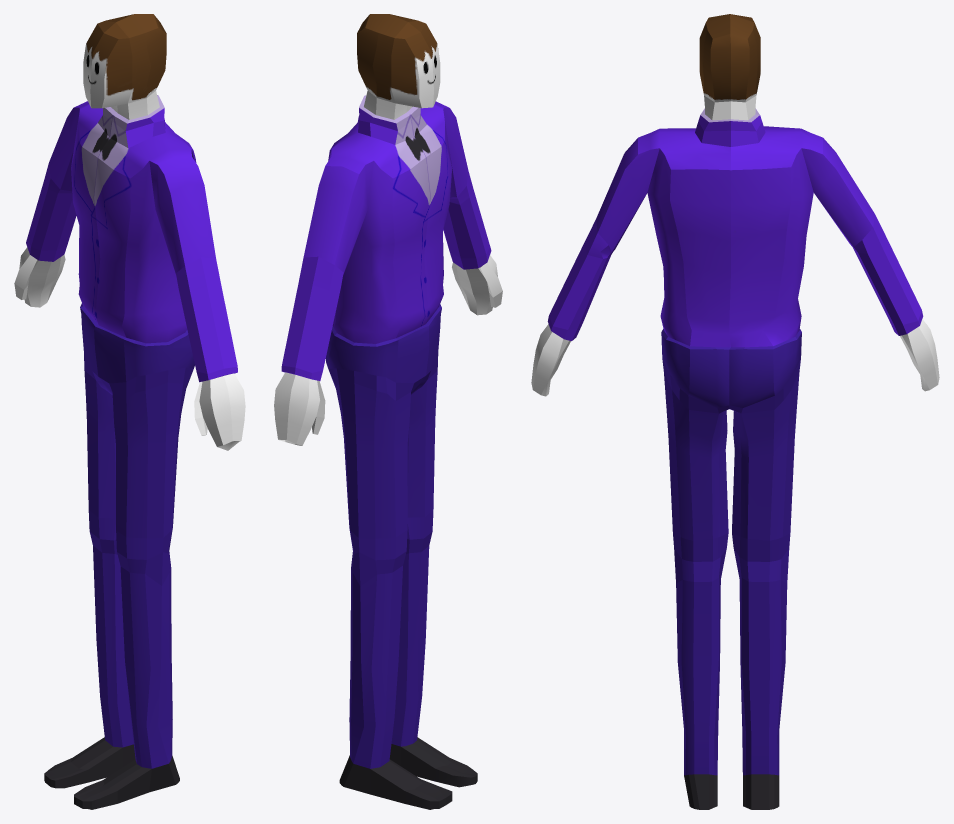
Rendered from MaleTEXTUREthreeTEST.fbx.
3 views of the same model, side by side, from view 1: azimuth 30°, elevation 25°; view 2: azimuth 150°, elevation 25°; view 3: azimuth 270°, elevation 25° (orthographic). The views are drawn at different scales.
Parts seen in each view (by area): view 1: pCube3; view 2: pCube3; view 3: pCube3.
Part boxes in pixels (left/top/right/bottom): pCube3: left=14, top=14, right=245, bottom=809; pCube3: left=274, top=14, right=502, bottom=809; pCube3: left=531, top=14, right=939, bottom=809.
Bounding box in the file's own units: 0.9968 × 5.96 × 2.83.
